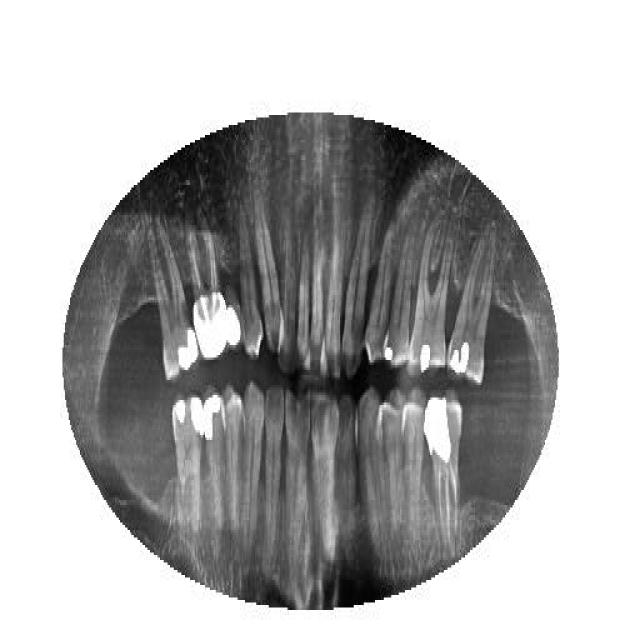Fillings: (148, 228, 198, 378), (408, 235, 453, 375), (447, 250, 492, 385), (170, 395, 202, 537), (384, 235, 415, 375), (194, 232, 226, 362), (203, 392, 225, 552), (224, 278, 242, 352)
Implant: (424, 398, 464, 548)
